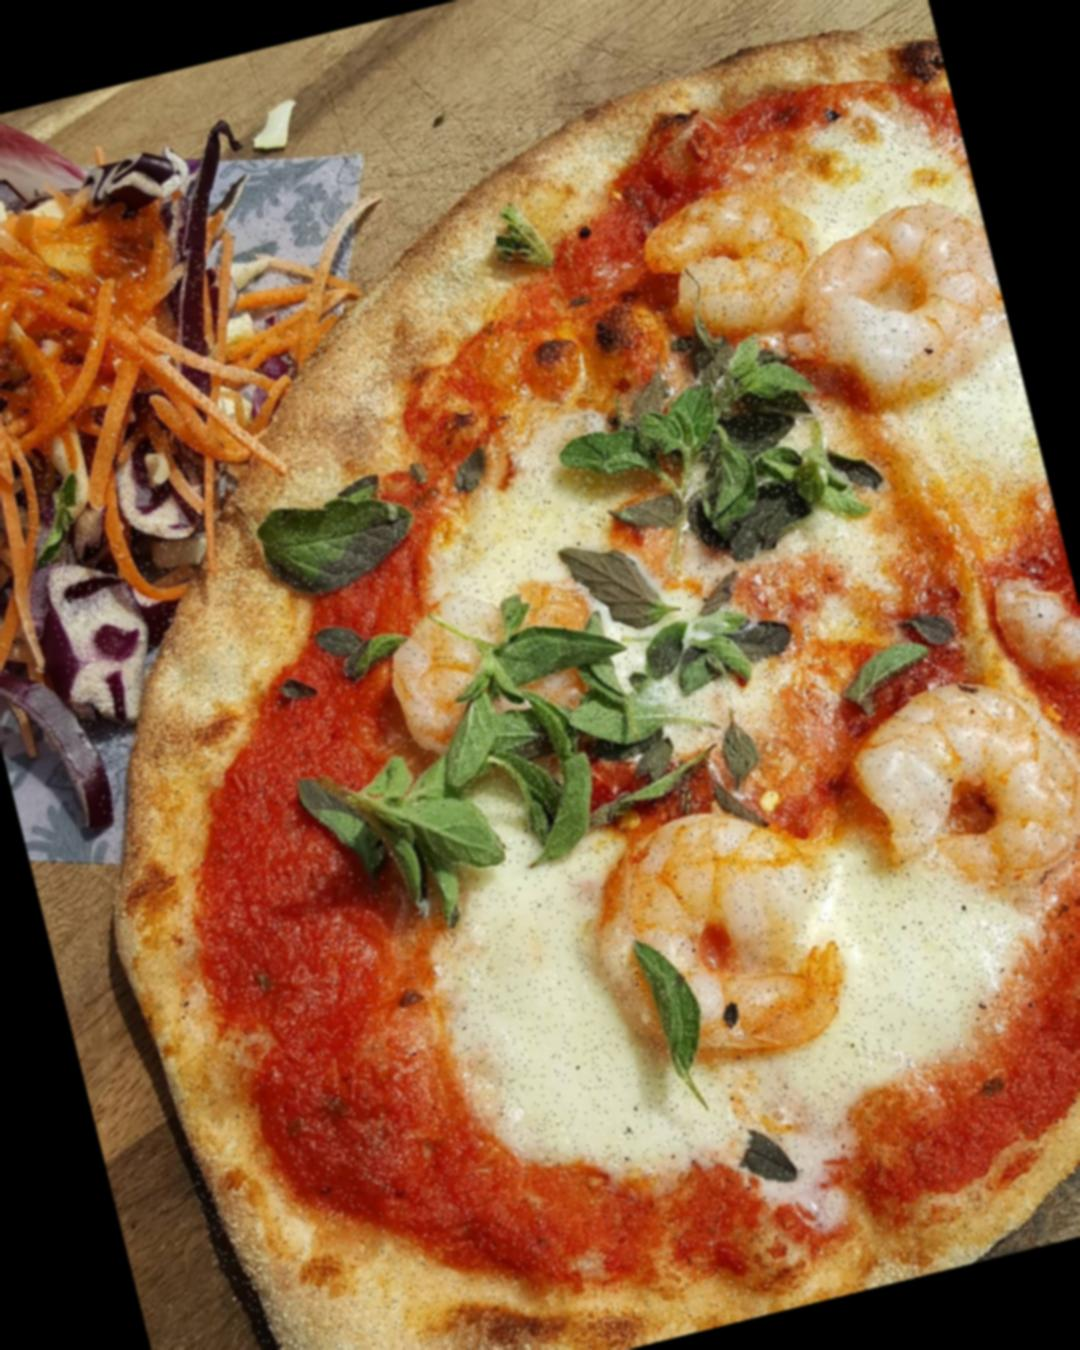Basil: (552, 320, 879, 576), (425, 605, 654, 827), (290, 742, 500, 936), (619, 536, 812, 720), (544, 507, 702, 665), (240, 479, 418, 601), (627, 924, 737, 1103), (847, 612, 971, 703)
Pizza: (0, 10, 1080, 1350)
